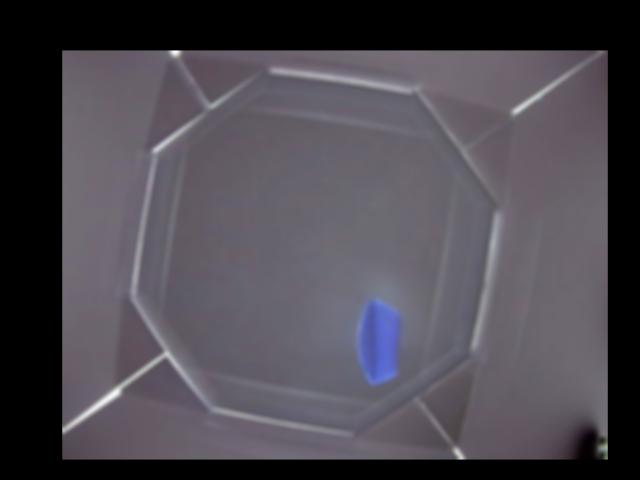Potato: (357, 299, 402, 387)
